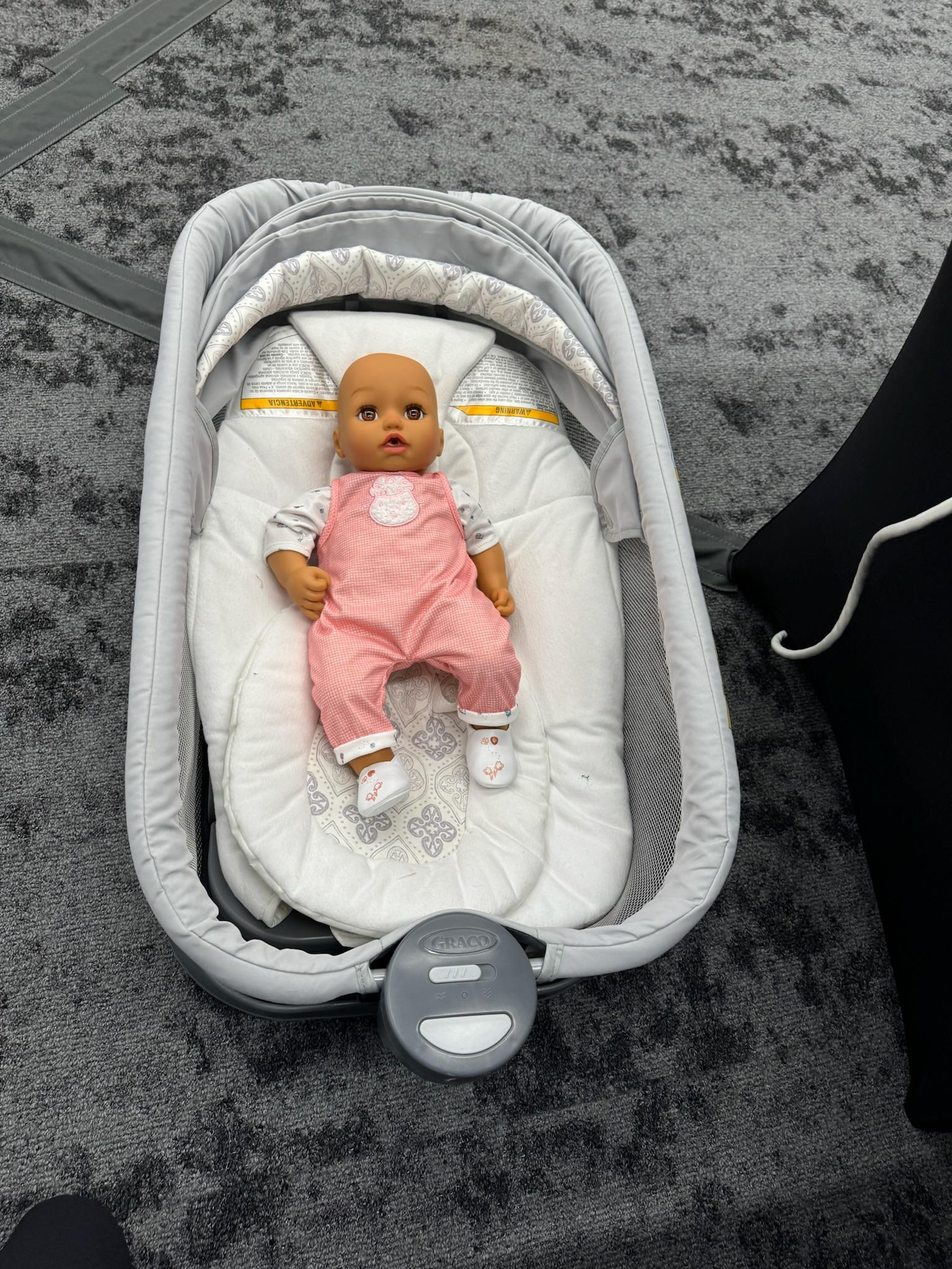baby: (268, 347, 549, 811)
